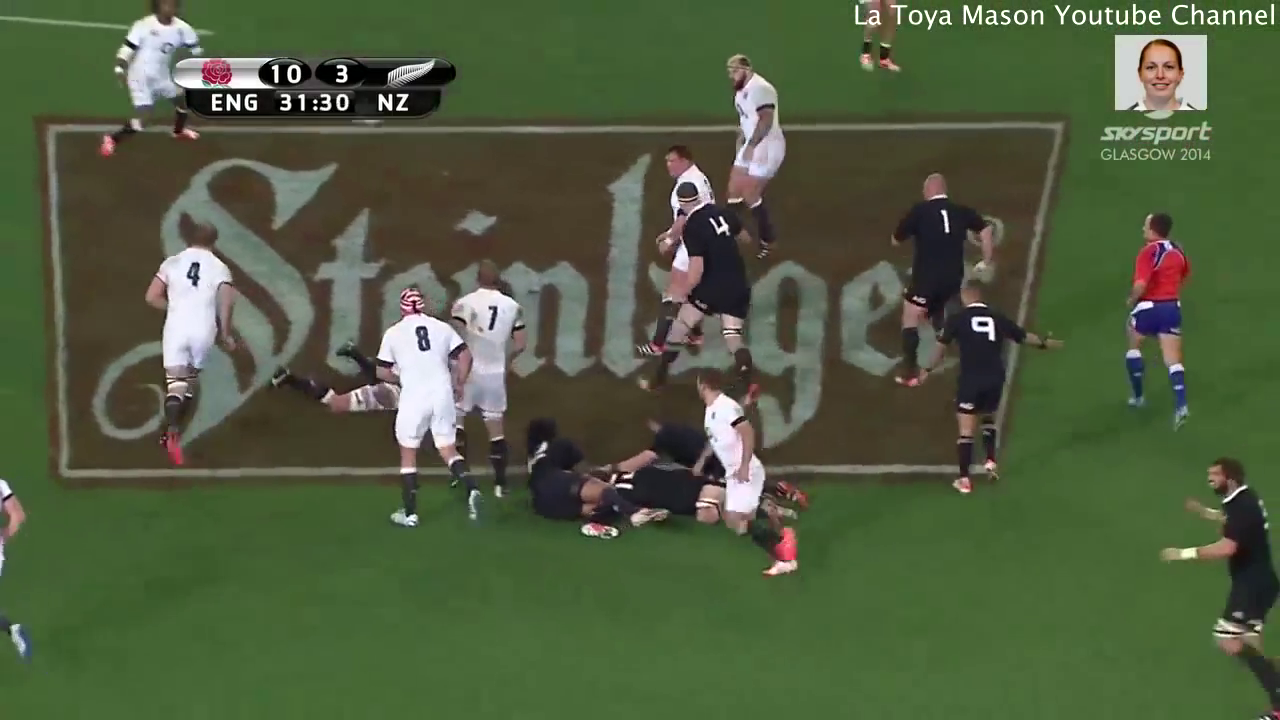player: (629, 165, 781, 411), (367, 273, 498, 544), (932, 272, 1071, 511), (1158, 453, 1280, 720), (688, 363, 825, 583), (875, 165, 1001, 398), (135, 215, 245, 478), (605, 123, 717, 376), (446, 248, 547, 520), (695, 48, 797, 265), (1110, 197, 1197, 438), (95, 1, 221, 162), (513, 412, 653, 552), (261, 326, 413, 417), (617, 396, 749, 492), (592, 458, 764, 522), (1, 456, 44, 684), (842, 1, 909, 80)
ruck: (486, 396, 815, 524)
